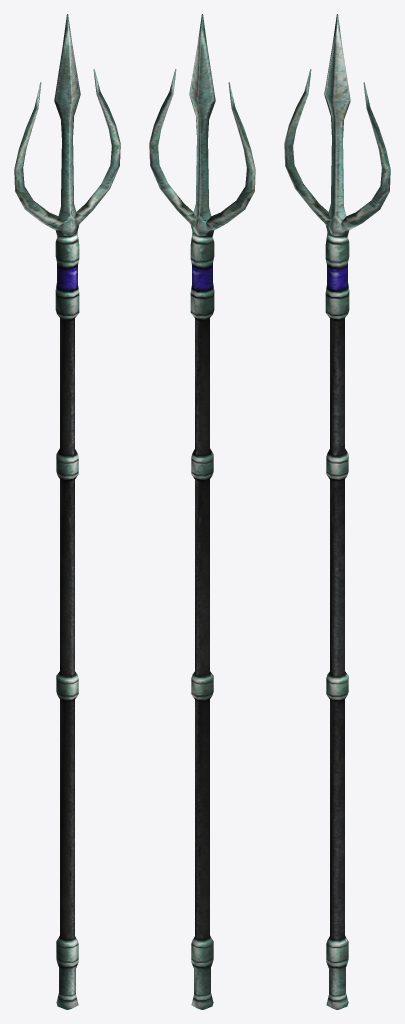
The model's file is mm8_m576_trident.glb.
3 renders of one model, left to right at view 1: azimuth 30°, elevation 25°; view 2: azimuth 150°, elevation 25°; view 3: azimuth 330°, elevation 25°, orthographic.
Parts seen in each view (by area): view 1: Trident; view 2: Trident; view 3: Trident.
Boxes of the visible parts, bbox=[...] form: Trident: bbox=[14, 14, 120, 1009]; Trident: bbox=[149, 14, 255, 1009]; Trident: bbox=[284, 14, 390, 1009].
Bounding box in the file's own units: 0.202 × 1.81 × 0.0399.
Materials: 1 (1 with a texture image).
